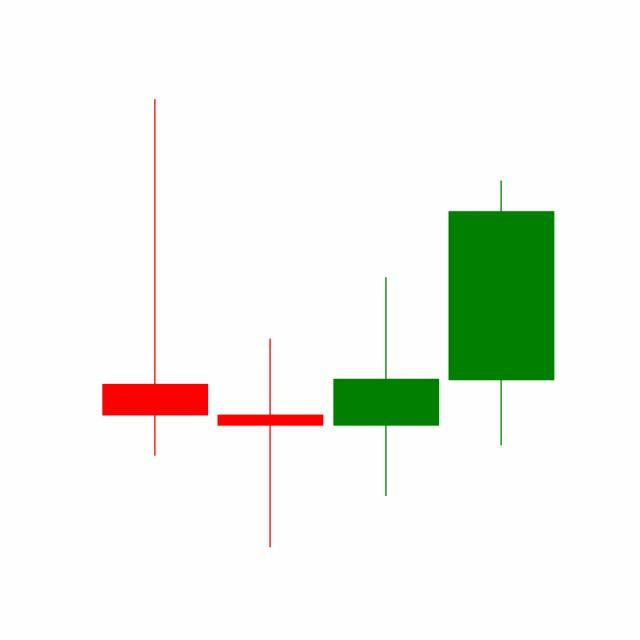Spinning Top: (329, 275, 445, 499)
